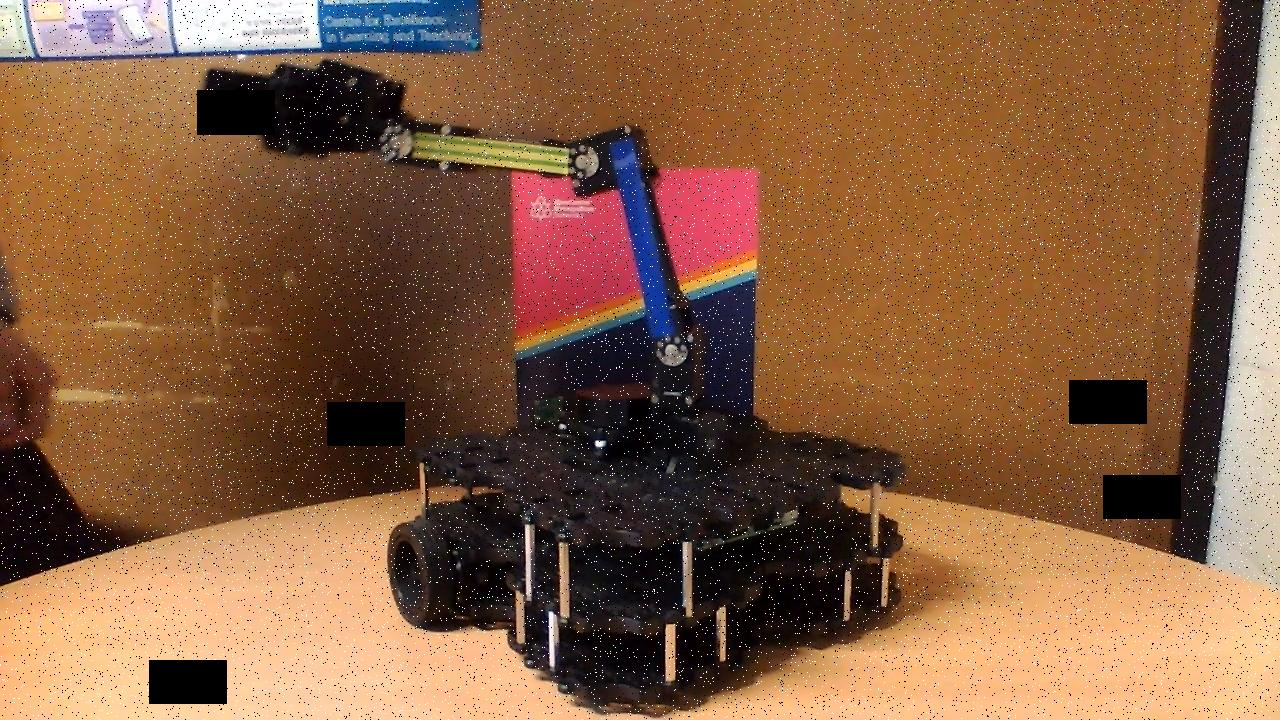Arm: (570, 120, 706, 365)
Hand: (199, 56, 417, 170)
Wrist: (376, 113, 603, 191)
base: (384, 380, 910, 705)
